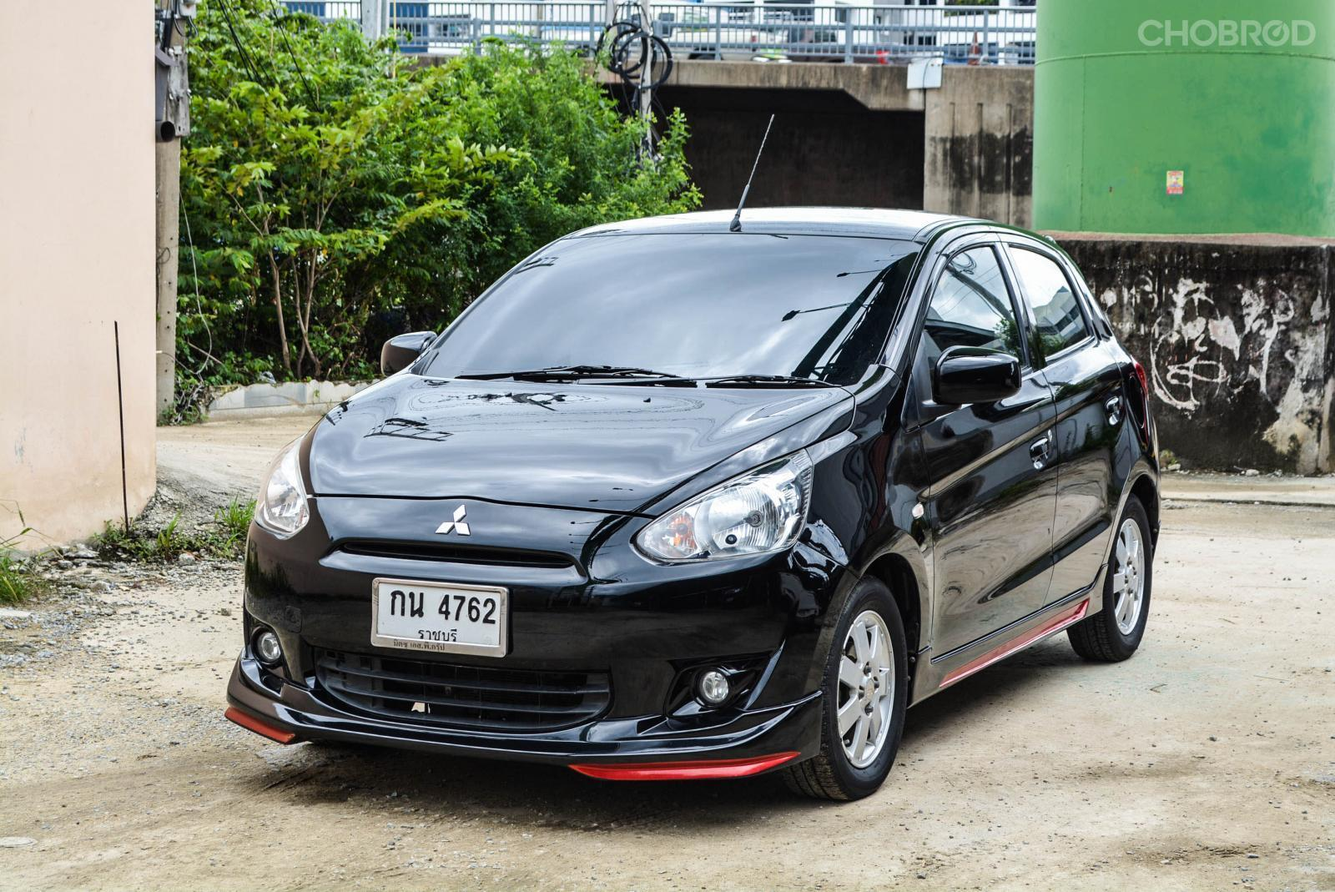license-plate: (369, 572, 513, 660)
